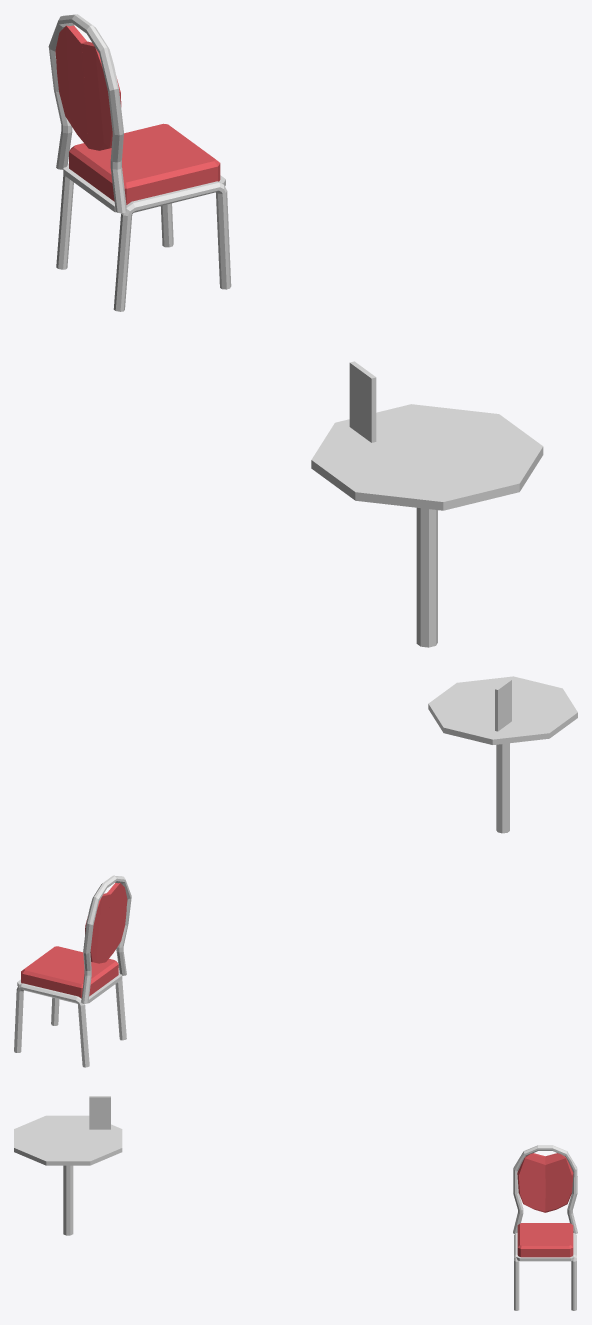
File: AddTable.fbx
3 views of the same model, one above another, from view 1: azimuth 30°, elevation 25°; view 2: azimuth 150°, elevation 25°; view 3: azimuth 270°, elevation 25° (orthographic). The views are drawn at different scales.
Visible parts, largest first — view 1: Cube, Cube.001, Cube.002; view 2: Cube, Cube.001, Cube.002; view 3: Cube, Cube.001, Cube.002.
Boxes of the visible parts, x1,y1,x2,y2 form: Cube: (48,14,231,311); Cube.001: (311,404,543,647); Cube.002: (349,361,376,442); Cube: (14,875,131,1067); Cube.001: (428,676,577,833); Cube.002: (495,679,511,731); Cube: (513,1145,577,1310); Cube.001: (14,1115,122,1235); Cube.002: (89,1096,110,1129).
Size of the model in its own units: 362 by 291 by 1025.
